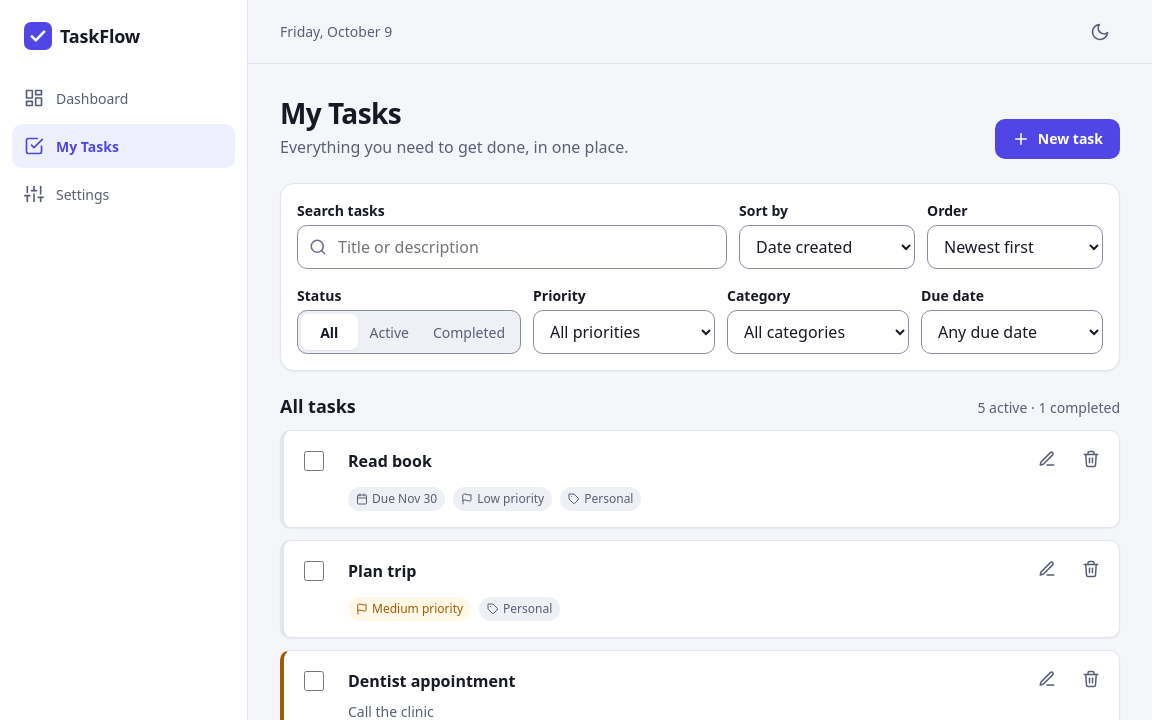
it: search › updates results as the user types
Type "p" into the search field labelled "Search tasks" at x=512, y=247, box 297,225 -> 727,269
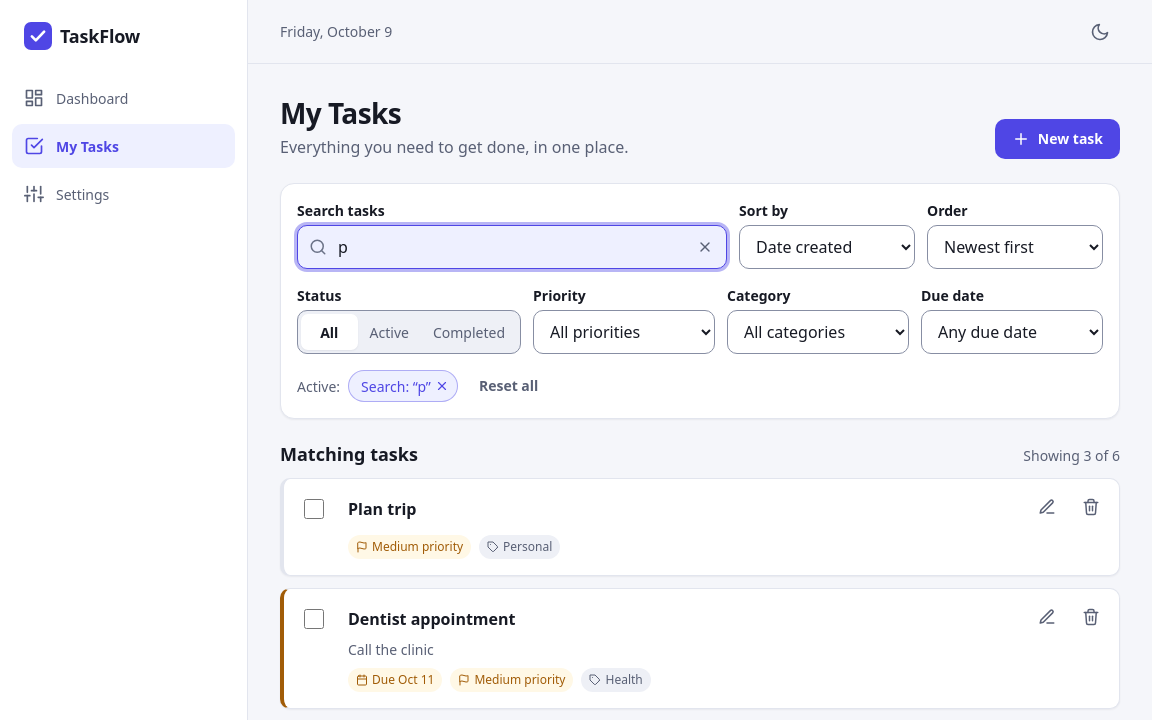
Type "l" into the search field labelled "Search tasks" at x=512, y=247, box 297,225 -> 727,269
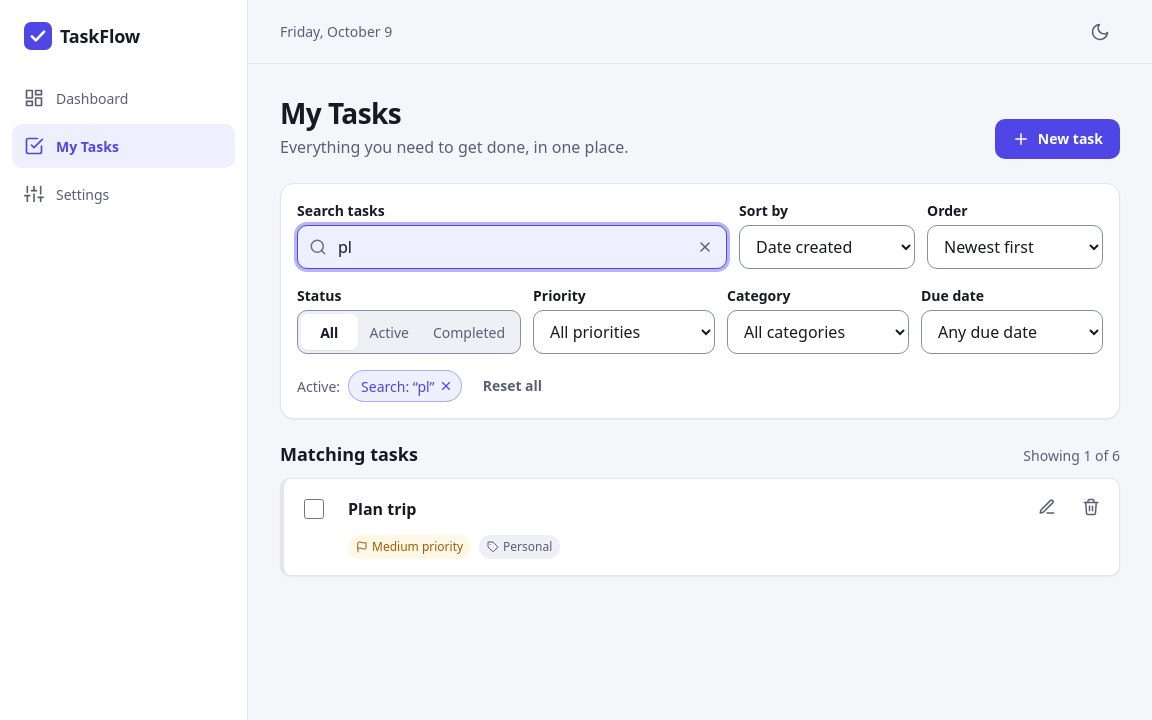
expect the text "Showing 1 of 6" is shown: met, box 1023,445 -> 1120,466
